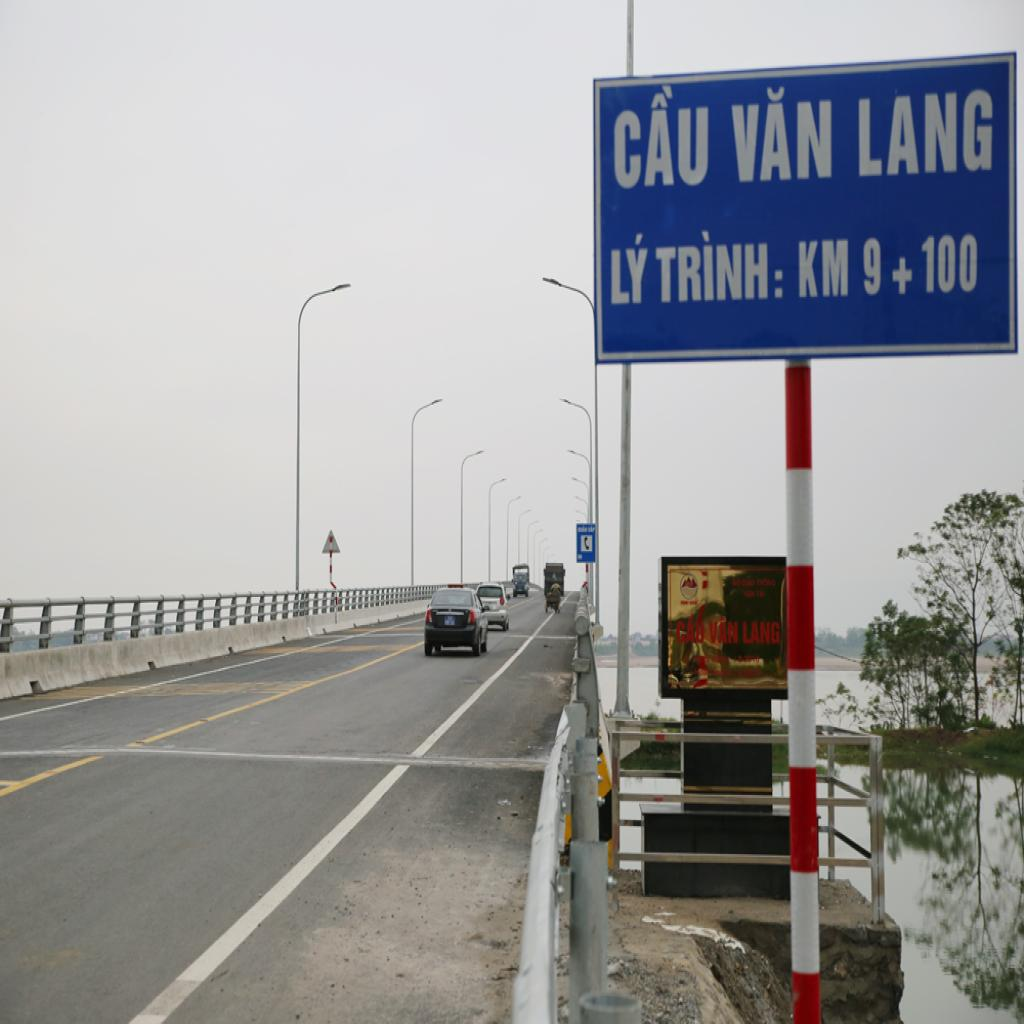text: (857, 88, 993, 178), (727, 84, 834, 185), (613, 82, 710, 190), (654, 226, 784, 306), (922, 234, 979, 296), (798, 238, 850, 300), (610, 232, 650, 307), (863, 236, 883, 298), (742, 619, 782, 647), (677, 613, 705, 646), (709, 616, 739, 646), (892, 257, 913, 296), (741, 578, 757, 588)
